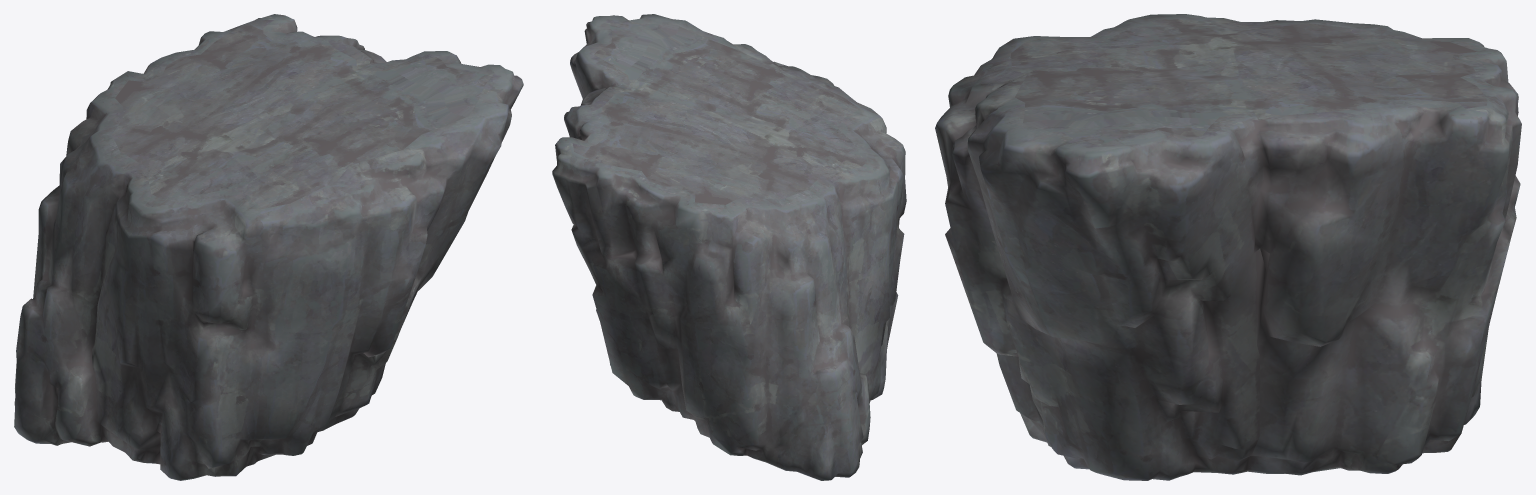
Rendered from stone-9.fbx.
3 renders of one model, left to right at view 1: azimuth 30°, elevation 25°; view 2: azimuth 150°, elevation 25°; view 3: azimuth 270°, elevation 25°, orthographic. The views are drawn at different scales.
Visible parts, largest first — view 1: Area_Ly_Stone_CSPY_Full_L_02_Lod0; view 2: Area_Ly_Stone_CSPY_Full_L_02_Lod0; view 3: Area_Ly_Stone_CSPY_Full_L_02_Lod0.
Part boxes in pixels (left/top/right/bottom): Area_Ly_Stone_CSPY_Full_L_02_Lod0: left=14, top=14, right=523, bottom=480; Area_Ly_Stone_CSPY_Full_L_02_Lod0: left=552, top=14, right=906, bottom=480; Area_Ly_Stone_CSPY_Full_L_02_Lod0: left=935, top=14, right=1521, bottom=480.
Bounding box in the file's own units: 4622 × 3807 × 4103.
Materials: 1 (1 with a texture image).
